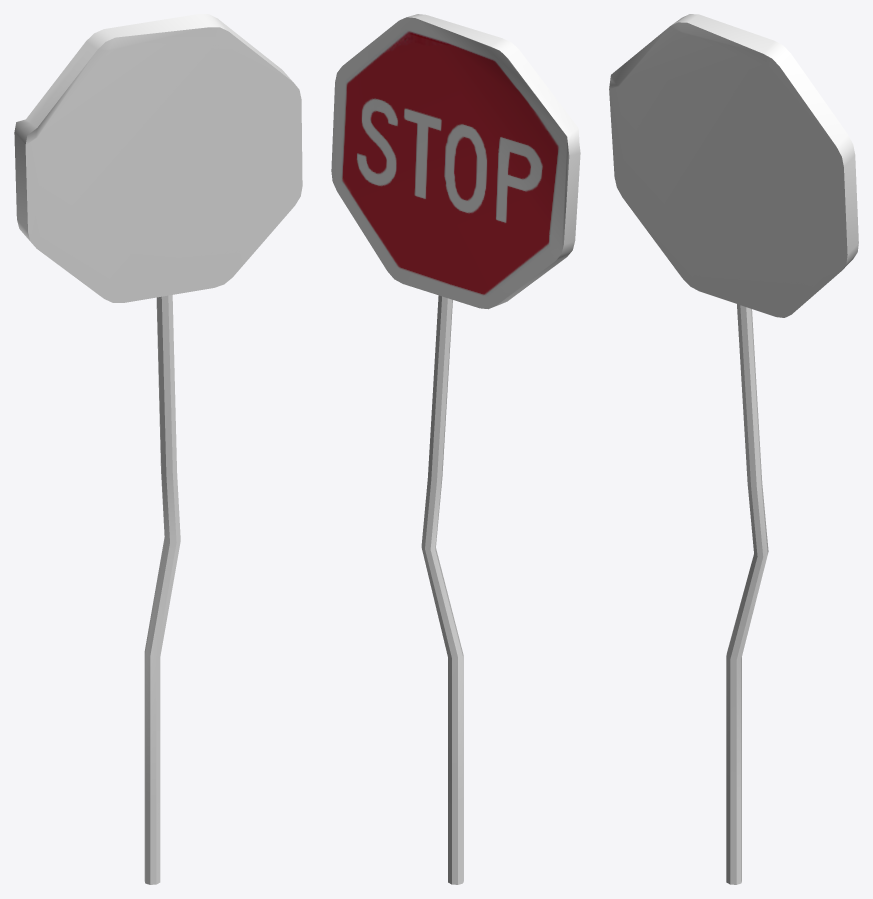
The model's file is LO_Stop_Sign_V3.fbx.
3 renders of one model, left to right at view 1: azimuth 30°, elevation 25°; view 2: azimuth 150°, elevation 25°; view 3: azimuth 330°, elevation 25°, orthographic.
Parts seen in each view (by area): view 1: Sign; view 2: Sign; view 3: Sign.
Part boxes in pixels (bbox=[...]): Sign: bbox=[14, 14, 302, 884]; Sign: bbox=[331, 14, 580, 884]; Sign: bbox=[609, 14, 858, 884].
Size of the model in its own units: 42.48 by 135 by 9.27.
